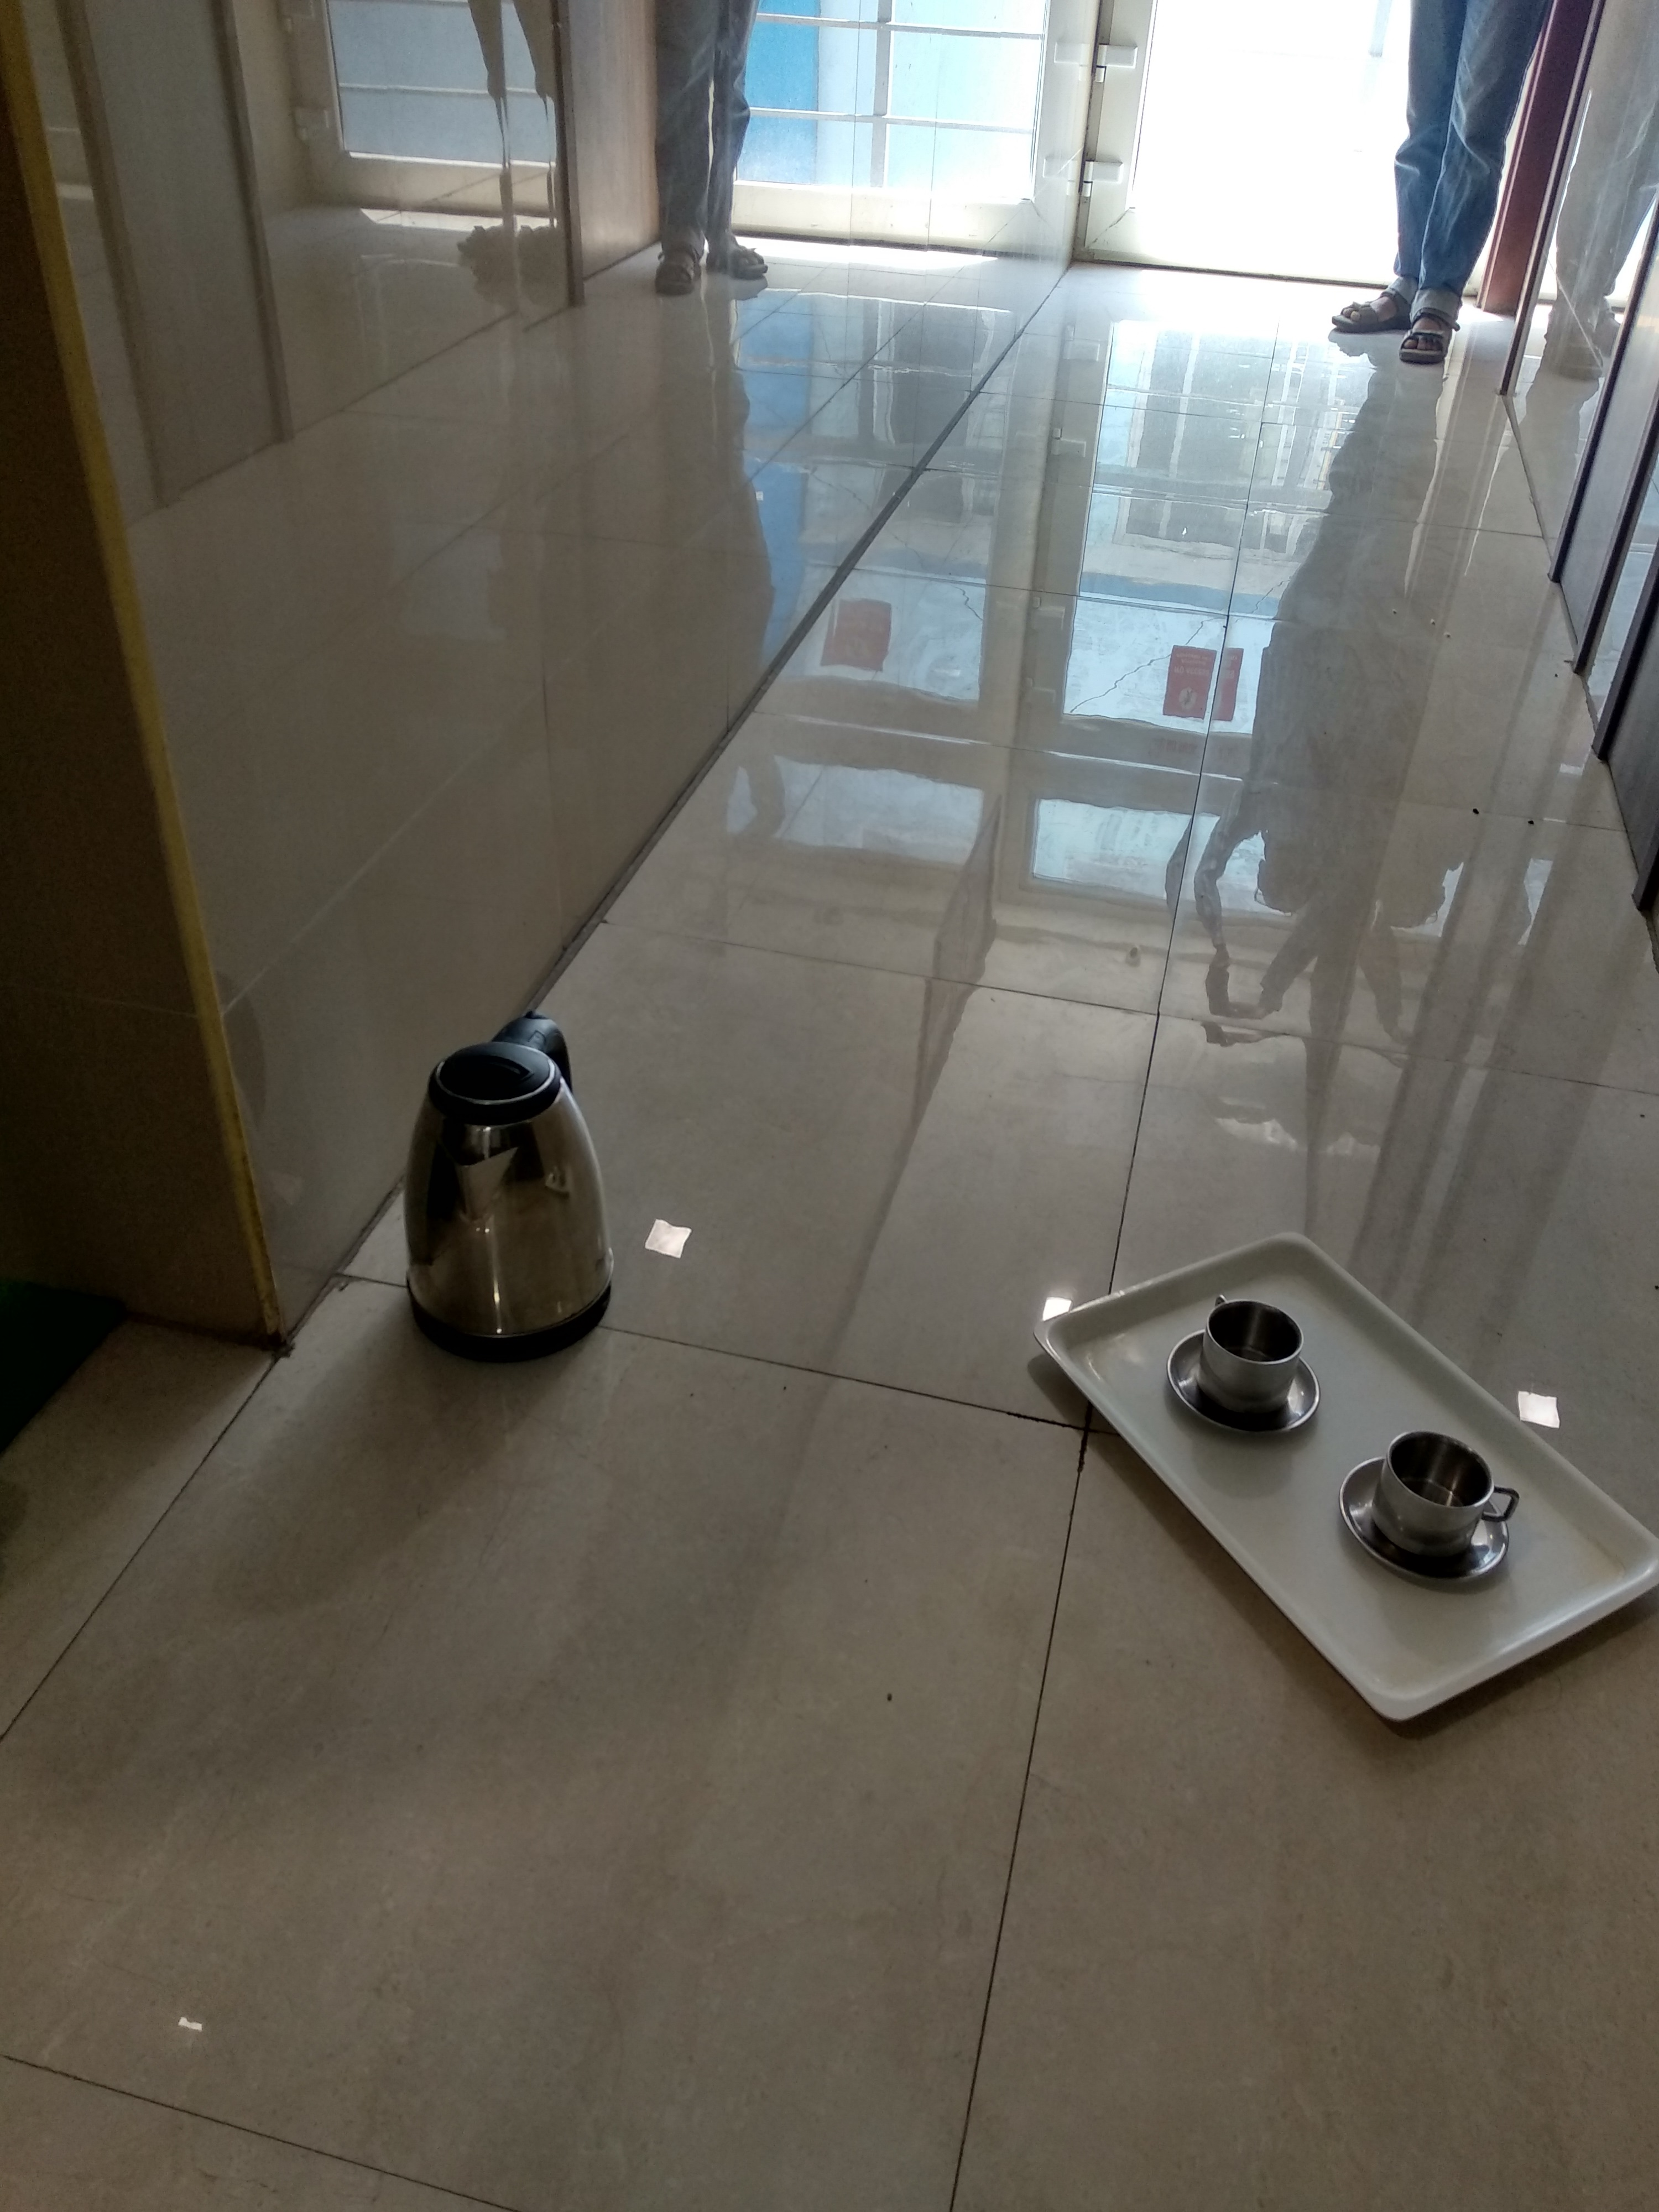CUP: (1358, 1428, 1523, 1594), (1173, 1296, 1326, 1442)
JUG: (404, 1050, 603, 1359)
